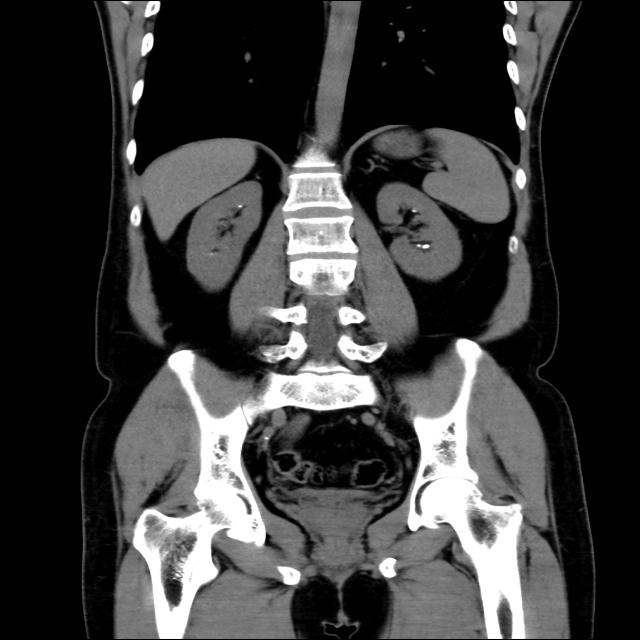kidneystone: (416, 242, 431, 250), (238, 201, 244, 208), (414, 208, 417, 209)
